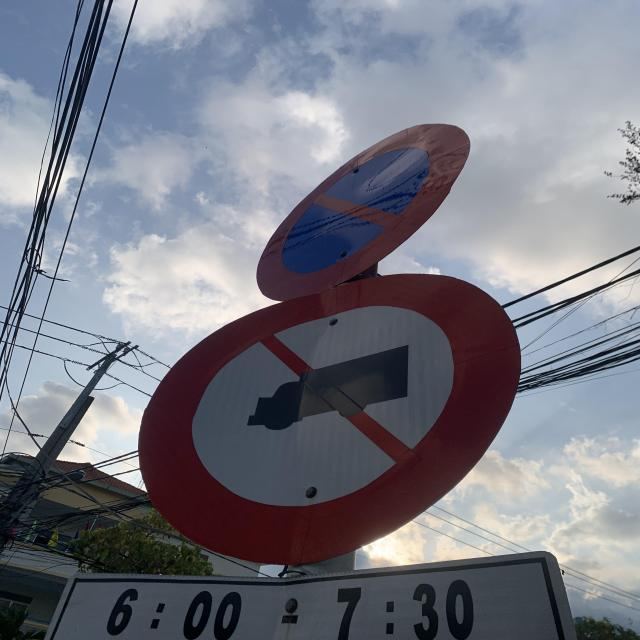Cam_Dau_Xe: (254, 124, 470, 302)
Cam_Xe_Tai: (138, 270, 534, 568)
